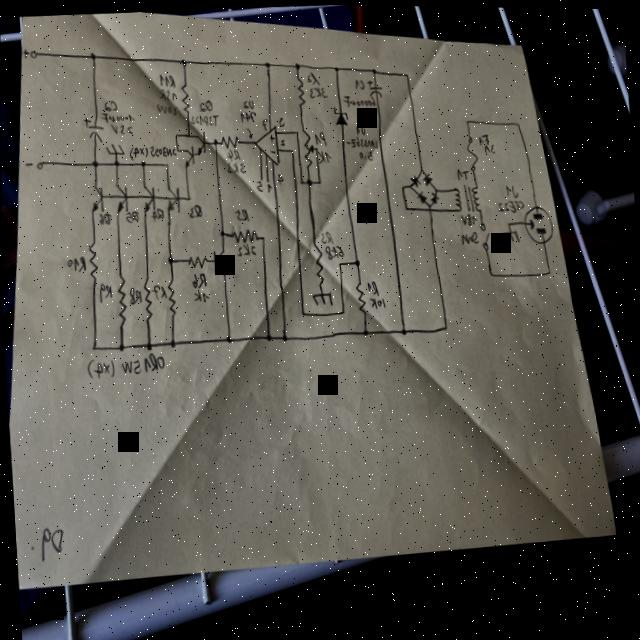capacitor: (83, 114, 104, 143), (366, 77, 382, 96)
crossover: (427, 205, 431, 209)
diode: (332, 103, 349, 126), (422, 171, 432, 183), (410, 172, 419, 184), (416, 190, 425, 200), (430, 190, 437, 202)
ground: (310, 290, 333, 305), (501, 225, 519, 242), (104, 141, 123, 154)
junction: (115, 340, 125, 351), (167, 337, 177, 347), (88, 341, 98, 351), (165, 254, 174, 265), (223, 333, 232, 343), (263, 331, 272, 341), (89, 50, 97, 60), (279, 331, 287, 341), (352, 256, 359, 265), (299, 307, 305, 317), (91, 159, 98, 167), (293, 60, 300, 68), (336, 258, 343, 266), (362, 326, 368, 335), (219, 228, 225, 236), (113, 159, 119, 167), (264, 59, 270, 67), (180, 57, 186, 65), (333, 63, 339, 71), (441, 321, 447, 329), (399, 326, 405, 334), (339, 306, 345, 314), (139, 159, 145, 167), (514, 118, 520, 126), (546, 265, 552, 273), (259, 233, 265, 241), (163, 160, 169, 167), (403, 203, 409, 210), (399, 182, 405, 189), (145, 342, 151, 348), (213, 136, 217, 144), (488, 269, 493, 275), (403, 70, 408, 76), (371, 66, 376, 72), (316, 177, 321, 183), (465, 116, 469, 122), (173, 131, 177, 137), (294, 127, 298, 133), (426, 201, 431, 205), (307, 179, 311, 184), (186, 195, 190, 200), (419, 166, 423, 170), (290, 147, 294, 151), (299, 179, 303, 183), (186, 132, 190, 136), (506, 219, 510, 223), (174, 147, 178, 151), (434, 187, 437, 191), (409, 181, 411, 185), (315, 144, 317, 148)
resistor: (114, 276, 127, 325), (300, 125, 314, 167), (86, 239, 99, 280), (312, 242, 324, 285), (231, 225, 258, 243), (354, 279, 367, 314), (178, 81, 191, 113), (165, 279, 176, 316), (294, 75, 306, 107), (142, 286, 153, 320), (218, 132, 241, 147), (184, 253, 207, 268)
switch: (479, 220, 491, 249)
terminal: (34, 159, 43, 169), (29, 49, 35, 57), (265, 176, 269, 180), (259, 175, 263, 179)
text: (128, 142, 177, 160), (187, 108, 221, 130), (85, 355, 114, 378), (341, 90, 376, 107), (141, 350, 166, 373), (99, 109, 135, 124), (344, 132, 377, 148), (495, 196, 524, 212), (119, 355, 141, 375), (64, 254, 86, 271), (236, 107, 257, 124), (96, 282, 112, 303), (322, 243, 343, 259), (155, 101, 177, 116), (189, 270, 208, 287), (110, 121, 133, 135), (307, 83, 328, 98), (224, 159, 245, 174), (127, 284, 142, 305), (158, 70, 175, 88), (459, 210, 478, 226), (191, 287, 210, 303), (150, 281, 166, 300), (458, 228, 477, 243), (158, 86, 177, 101), (232, 205, 251, 220), (235, 242, 255, 256), (368, 293, 386, 308), (123, 208, 139, 224), (503, 181, 519, 197), (148, 206, 164, 222), (454, 165, 470, 180), (187, 201, 202, 217), (197, 97, 214, 111), (97, 210, 112, 225), (316, 147, 330, 163), (240, 96, 256, 110), (357, 106, 375, 118), (476, 131, 490, 145), (313, 129, 326, 144), (225, 147, 240, 160), (103, 98, 118, 111), (357, 148, 372, 160), (366, 279, 378, 294), (319, 229, 332, 242), (482, 141, 496, 153), (306, 70, 318, 83), (353, 76, 364, 88), (355, 123, 366, 134), (275, 172, 284, 184), (255, 178, 262, 191), (23, 159, 33, 168), (277, 114, 285, 125), (261, 117, 268, 129), (265, 181, 272, 191), (246, 127, 253, 137), (279, 137, 285, 146), (268, 132, 274, 140), (23, 48, 28, 56), (268, 147, 275, 152)
transformer: (452, 180, 481, 211)
transistor: (112, 180, 132, 212), (209, 246, 227, 274), (89, 183, 104, 212), (165, 184, 180, 213), (141, 184, 156, 212), (182, 143, 194, 167), (195, 129, 206, 154)
